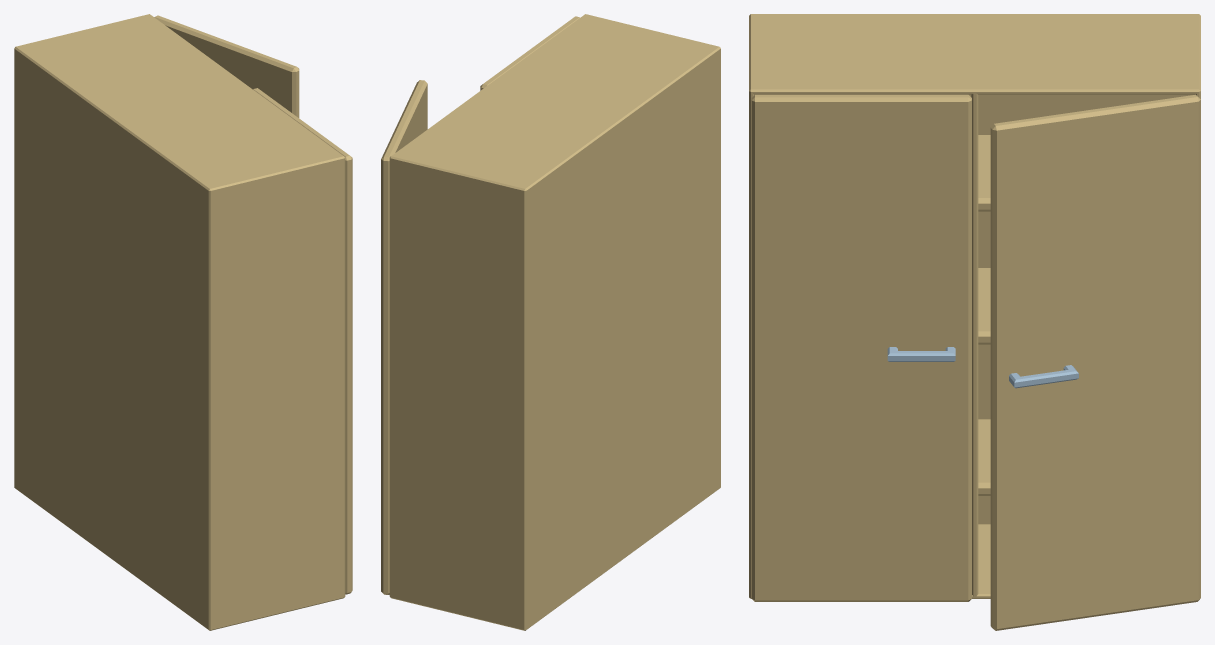
The model's file is SM_CupboardMidOpen.fbx.
3 renders of one model, left to right at view 1: azimuth 30°, elevation 25°; view 2: azimuth 150°, elevation 25°; view 3: azimuth 270°, elevation 25°, orthographic. The views are drawn at different scales.
Parts seen in each view (by area): view 1: Cube.026; view 2: Cube.026; view 3: Cube.026.
Part boxes in pixels (bbox=[...]): Cube.026: bbox=[14, 14, 352, 630]; Cube.026: bbox=[381, 14, 720, 630]; Cube.026: bbox=[749, 14, 1200, 630].
Size of the model in its own units: 157 by 95.3 by 195.
